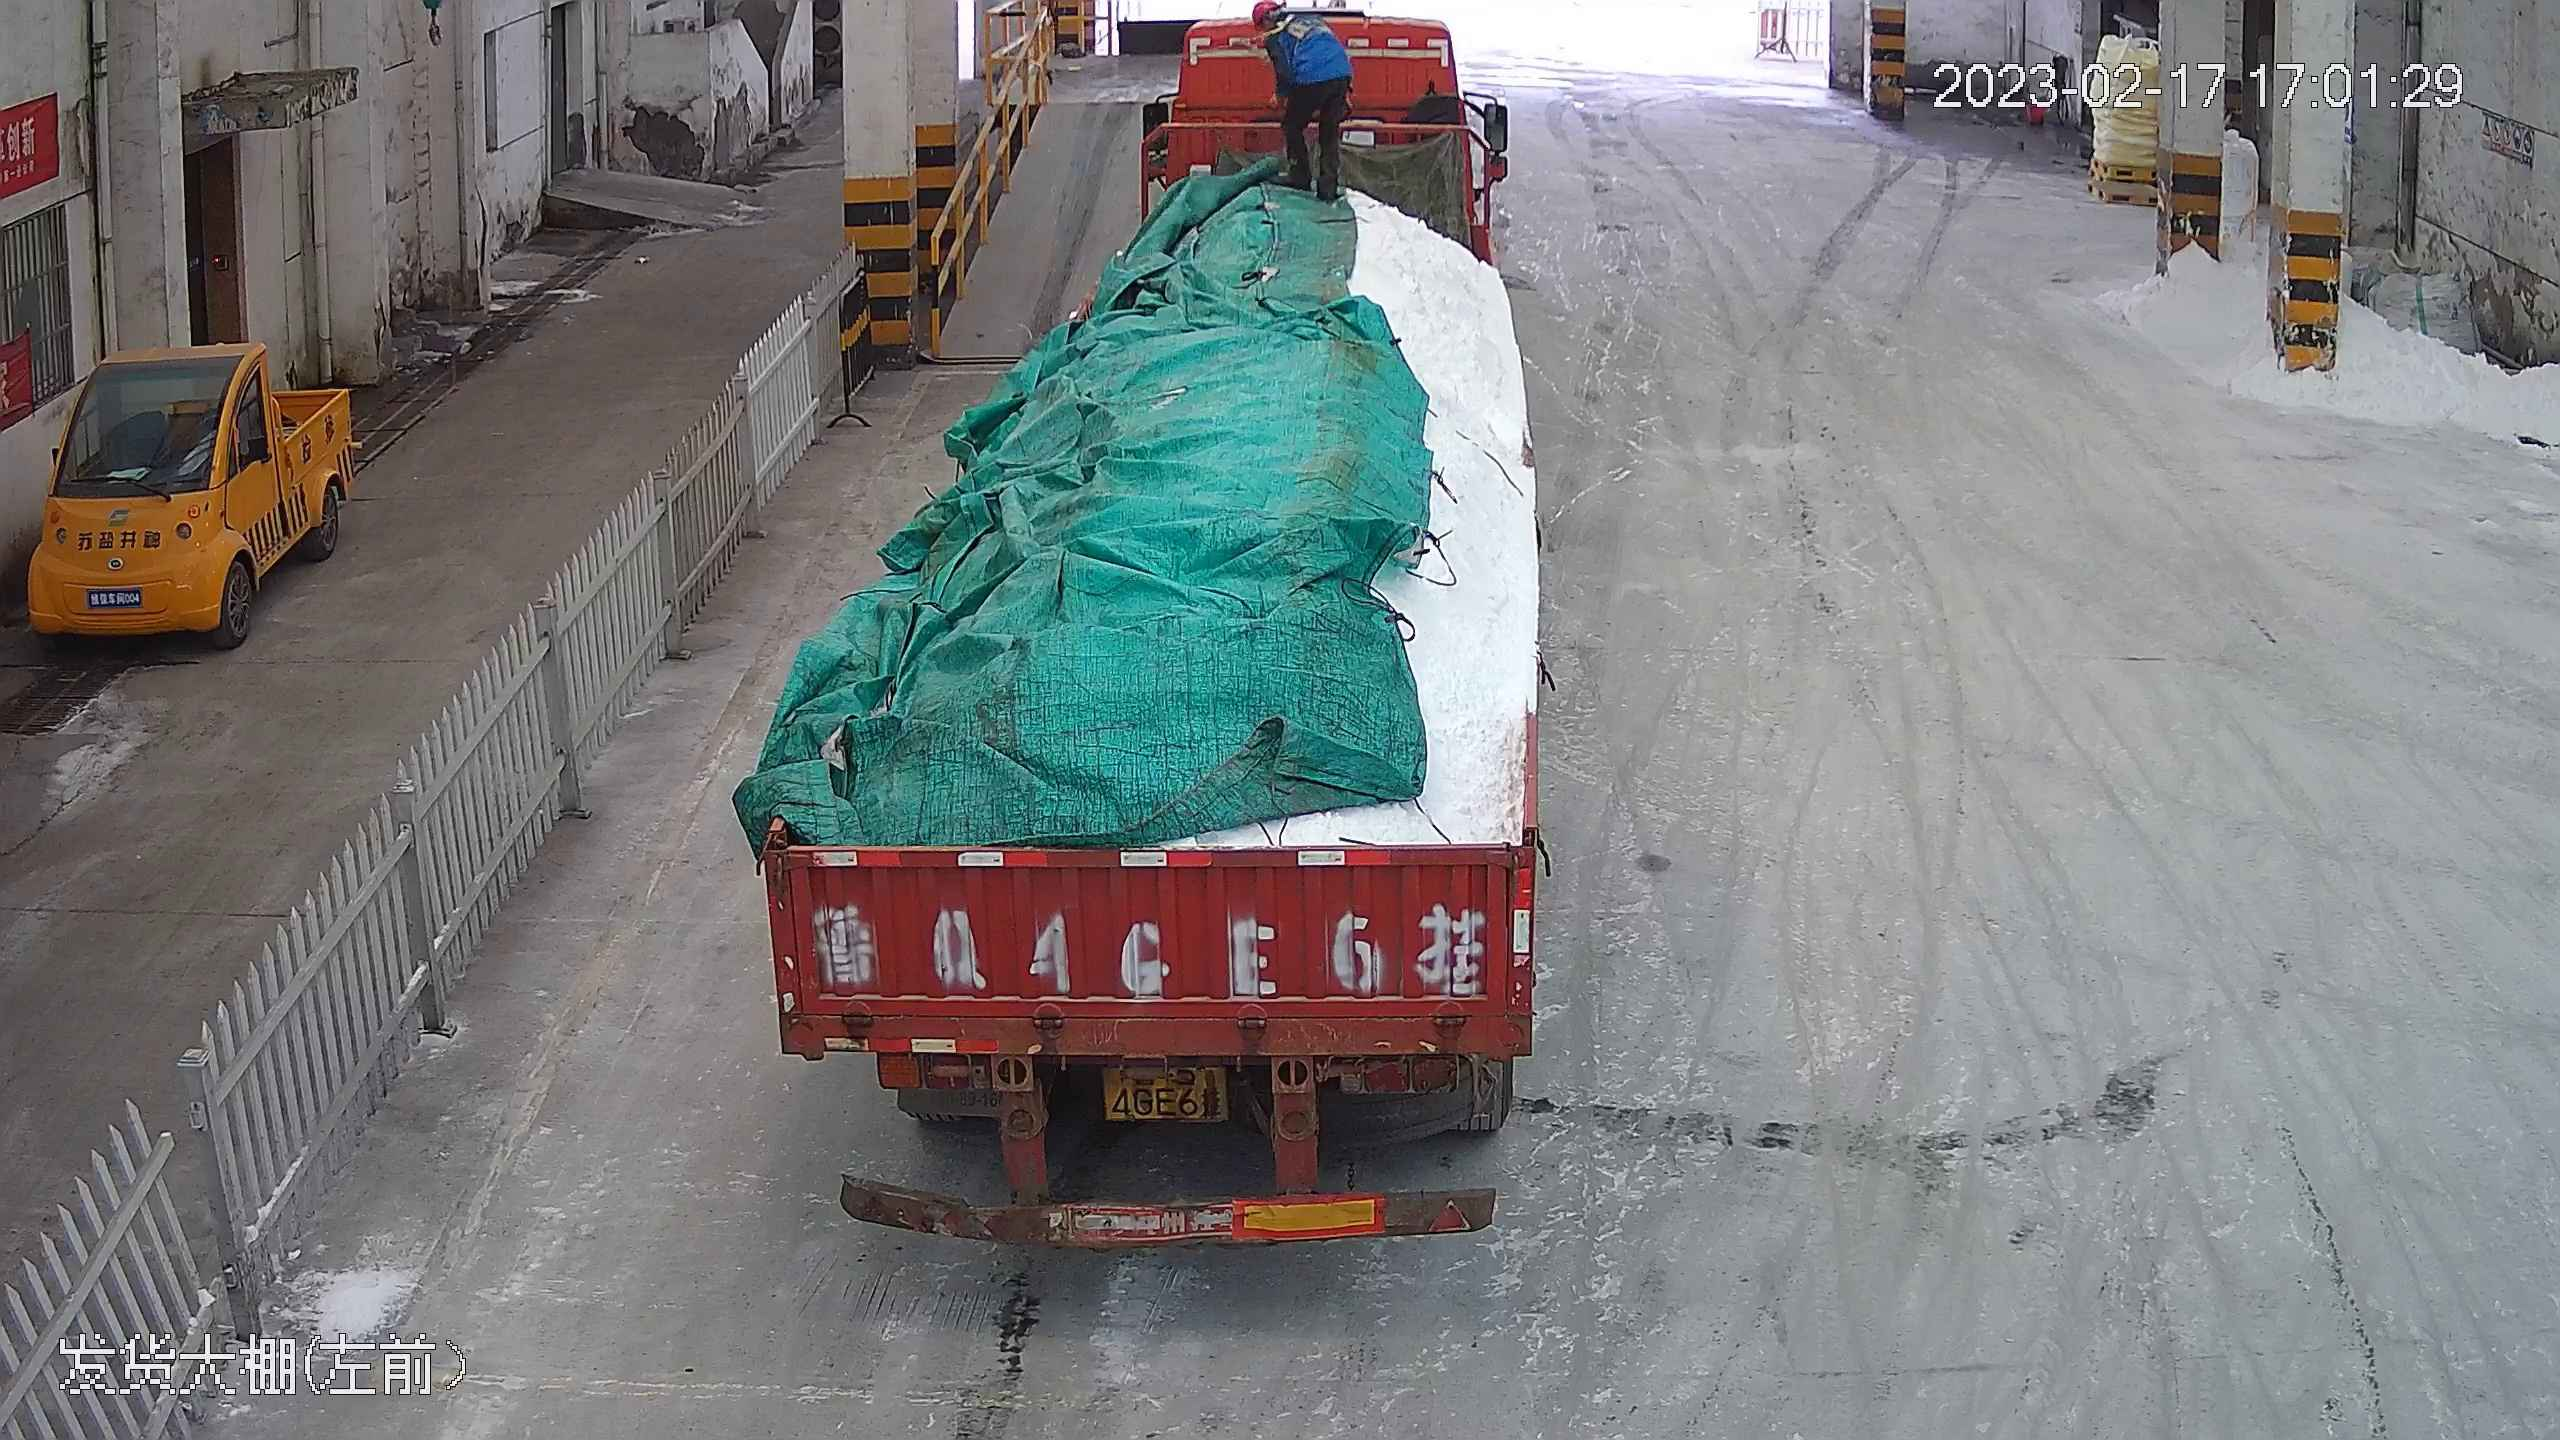head: (1226, 2, 1356, 43)
helmets: (1243, 2, 1290, 29)
people: (1244, 1, 1355, 210)
truck: (758, 13, 1569, 1264)
